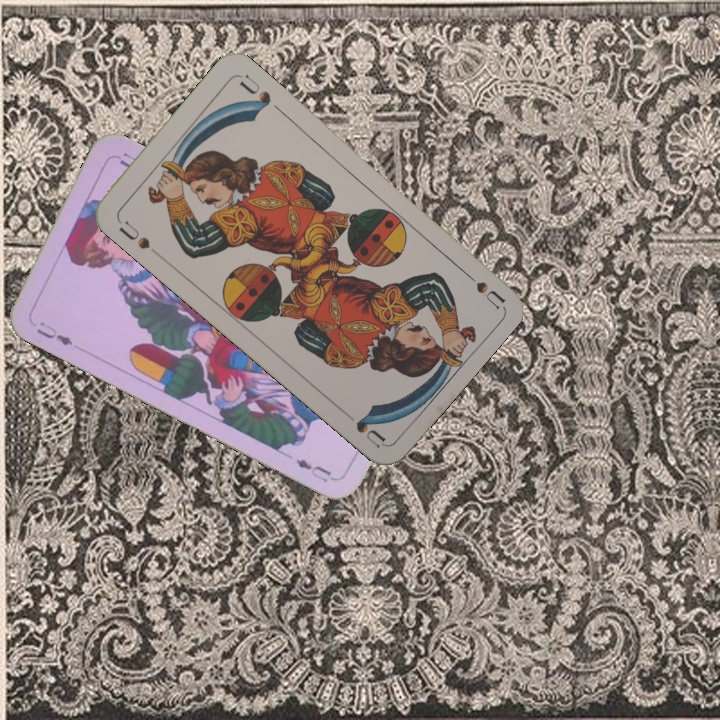EU: (32, 317, 75, 348)
SU: (455, 263, 505, 310), (113, 215, 153, 252)
